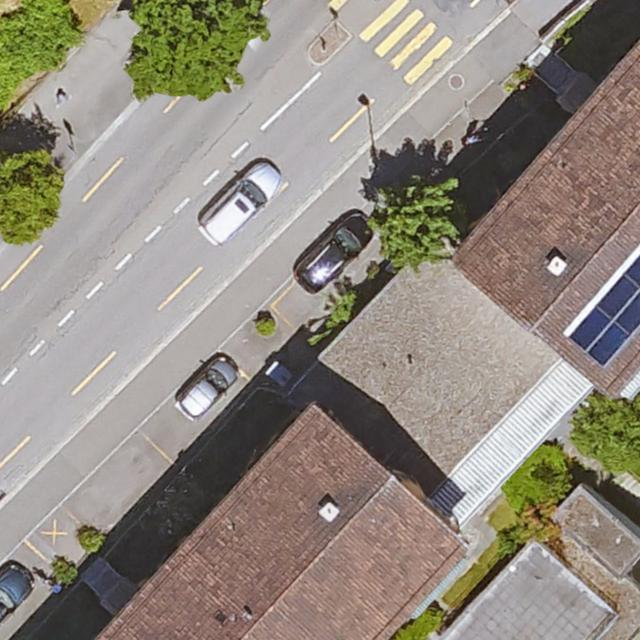tree: (128, 0, 263, 97), (371, 182, 464, 269), (0, 150, 63, 242), (573, 395, 640, 466)
